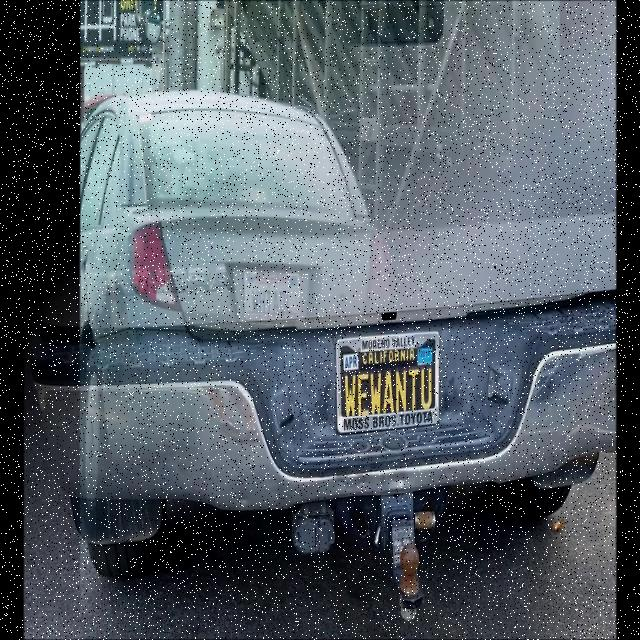licenseplate: (338, 341, 438, 426), (244, 270, 306, 328)
